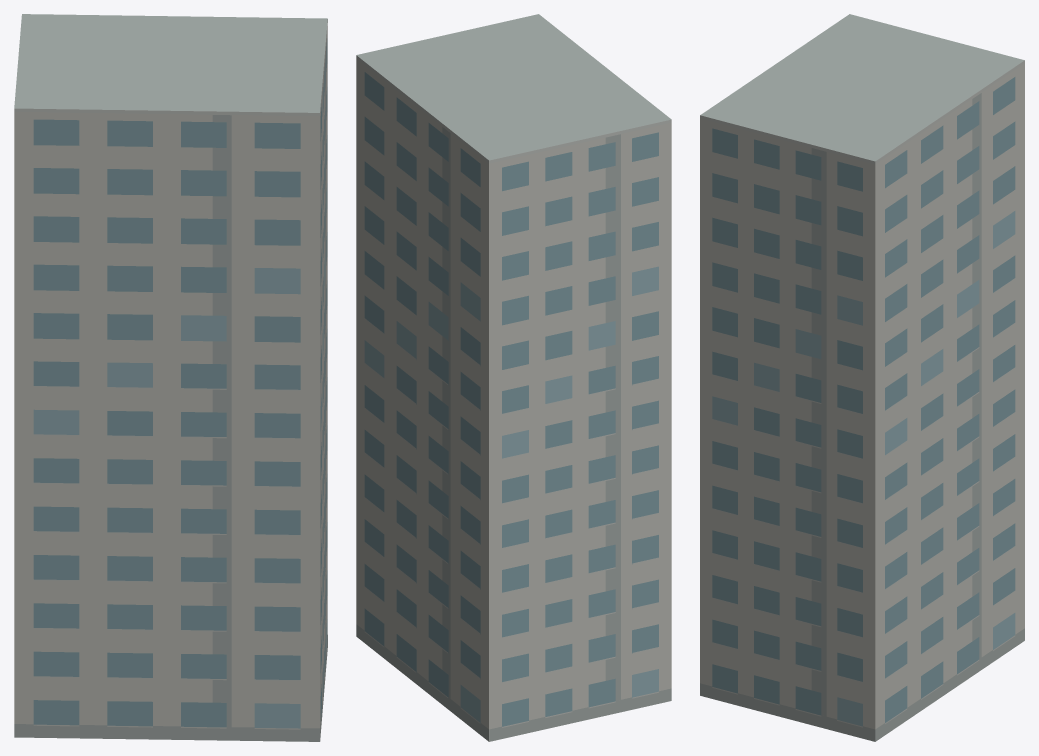
File: residential-717d2775-3186-4977-8f62-368189e33a0b.glb
3 renders of one model, left to right at view 1: azimuth 30°, elevation 25°; view 2: azimuth 150°, elevation 25°; view 3: azimuth 270°, elevation 25°, orthographic. The views are drawn at different scales.
Visible parts, largest first — view 1: residential-717d2775-3186-4977-8f62-368189e33a0b.tmp; view 2: residential-717d2775-3186-4977-8f62-368189e33a0b.tmp; view 3: residential-717d2775-3186-4977-8f62-368189e33a0b.tmp.
Part boxes in pixels (x1,y1,x2,y2): residential-717d2775-3186-4977-8f62-368189e33a0b.tmp: (14, 14, 327, 741); residential-717d2775-3186-4977-8f62-368189e33a0b.tmp: (356, 14, 671, 741); residential-717d2775-3186-4977-8f62-368189e33a0b.tmp: (700, 14, 1024, 741).
Bounding box in the file's own units: 23.98 × 44 × 22.32.
